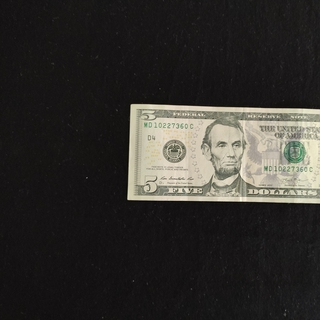5USDFront: (126, 104, 320, 205)
